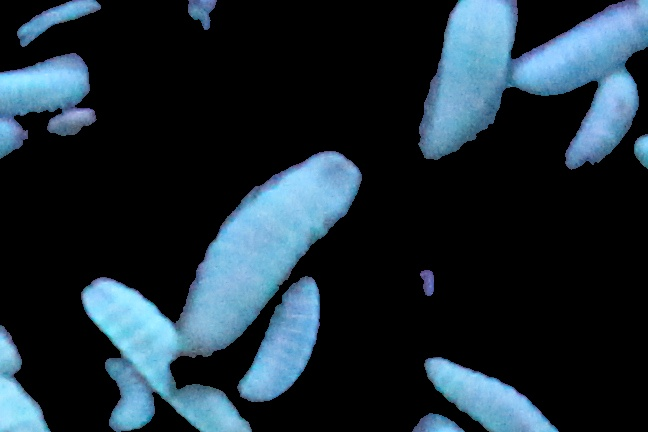larvae: (173, 152, 361, 366), (81, 278, 251, 431), (415, 1, 518, 161), (512, 7, 648, 94), (424, 354, 555, 432), (241, 273, 319, 402), (558, 72, 634, 172), (1, 55, 96, 112), (93, 356, 165, 427), (19, 4, 105, 46)
